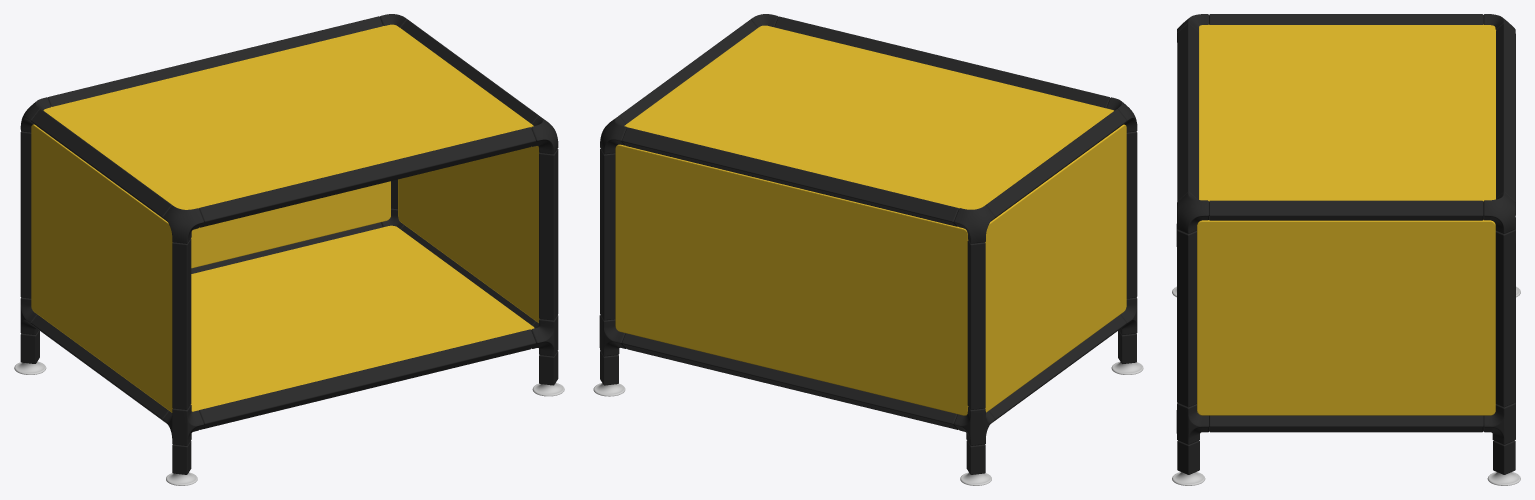
3 renders of one model, left to right at view 1: azimuth 30°, elevation 25°; view 2: azimuth 150°, elevation 25°; view 3: azimuth 270°, elevation 25°, orthographic. The views are drawn at different scales.
Visible parts, largest first — view 1: 479x329x229; view 2: 479x329x229; view 3: 479x329x229.
Part boxes in pixels (left/top/right/bottom): 479x329x229: left=14, top=14, right=564, bottom=485; 479x329x229: left=593, top=14, right=1143, bottom=485; 479x329x229: left=1172, top=14, right=1520, bottom=485.
Size of the model in its own units: 0.5689 by 0.3683 by 0.4182.
